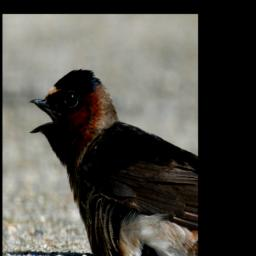Swallow: (27, 68, 198, 256)
